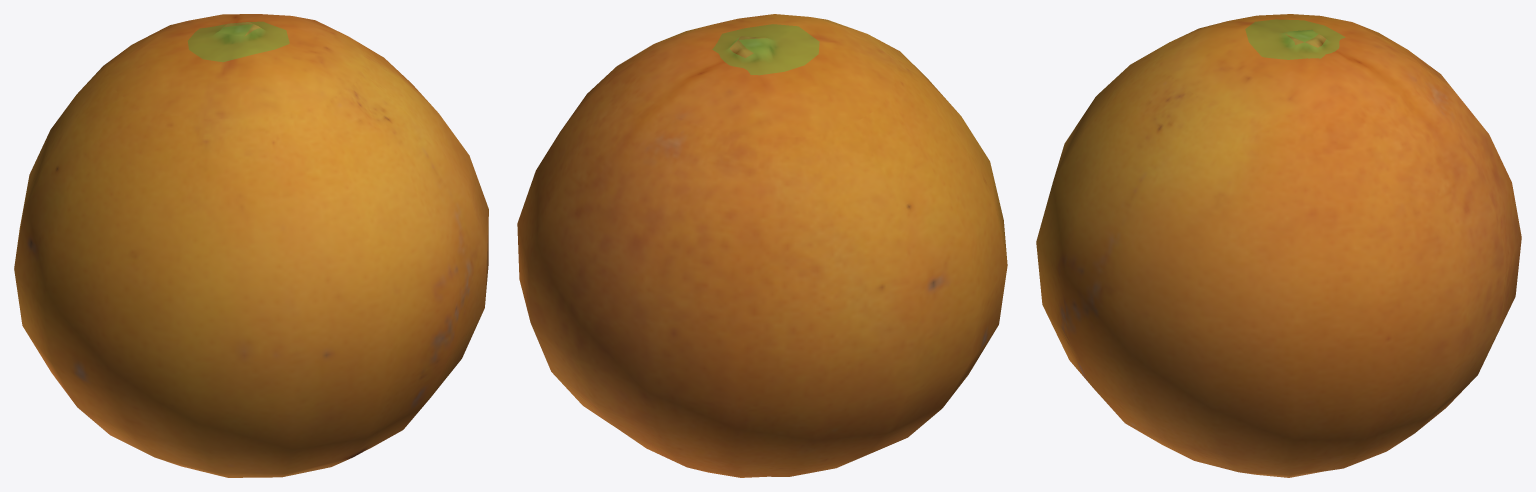
The model's file is pg_Orange_04.fbx.
3 views of the same model, side by side, from view 1: azimuth 30°, elevation 25°; view 2: azimuth 150°, elevation 25°; view 3: azimuth 270°, elevation 25° (orthographic).
Visible parts, largest first — view 1: pg_Orange_04_a_LOD0, pg_Orange_04_a_col; view 2: pg_Orange_04_a_LOD0, pg_Orange_04_a_col; view 3: pg_Orange_04_a_LOD0, pg_Orange_04_a_col.
Boxes of the visible parts, left/top/right/bottom form: pg_Orange_04_a_LOD0: left=14, top=14, right=488, bottom=477; pg_Orange_04_a_col: left=188, top=21, right=289, bottom=61; pg_Orange_04_a_LOD0: left=517, top=14, right=1007, bottom=477; pg_Orange_04_a_col: left=712, top=24, right=819, bottom=75; pg_Orange_04_a_LOD0: left=1036, top=14, right=1521, bottom=477; pg_Orange_04_a_col: left=1245, top=19, right=1345, bottom=59.
Size of what is drawn, in the model's own units: 9.25 by 8.62 by 9.27.
